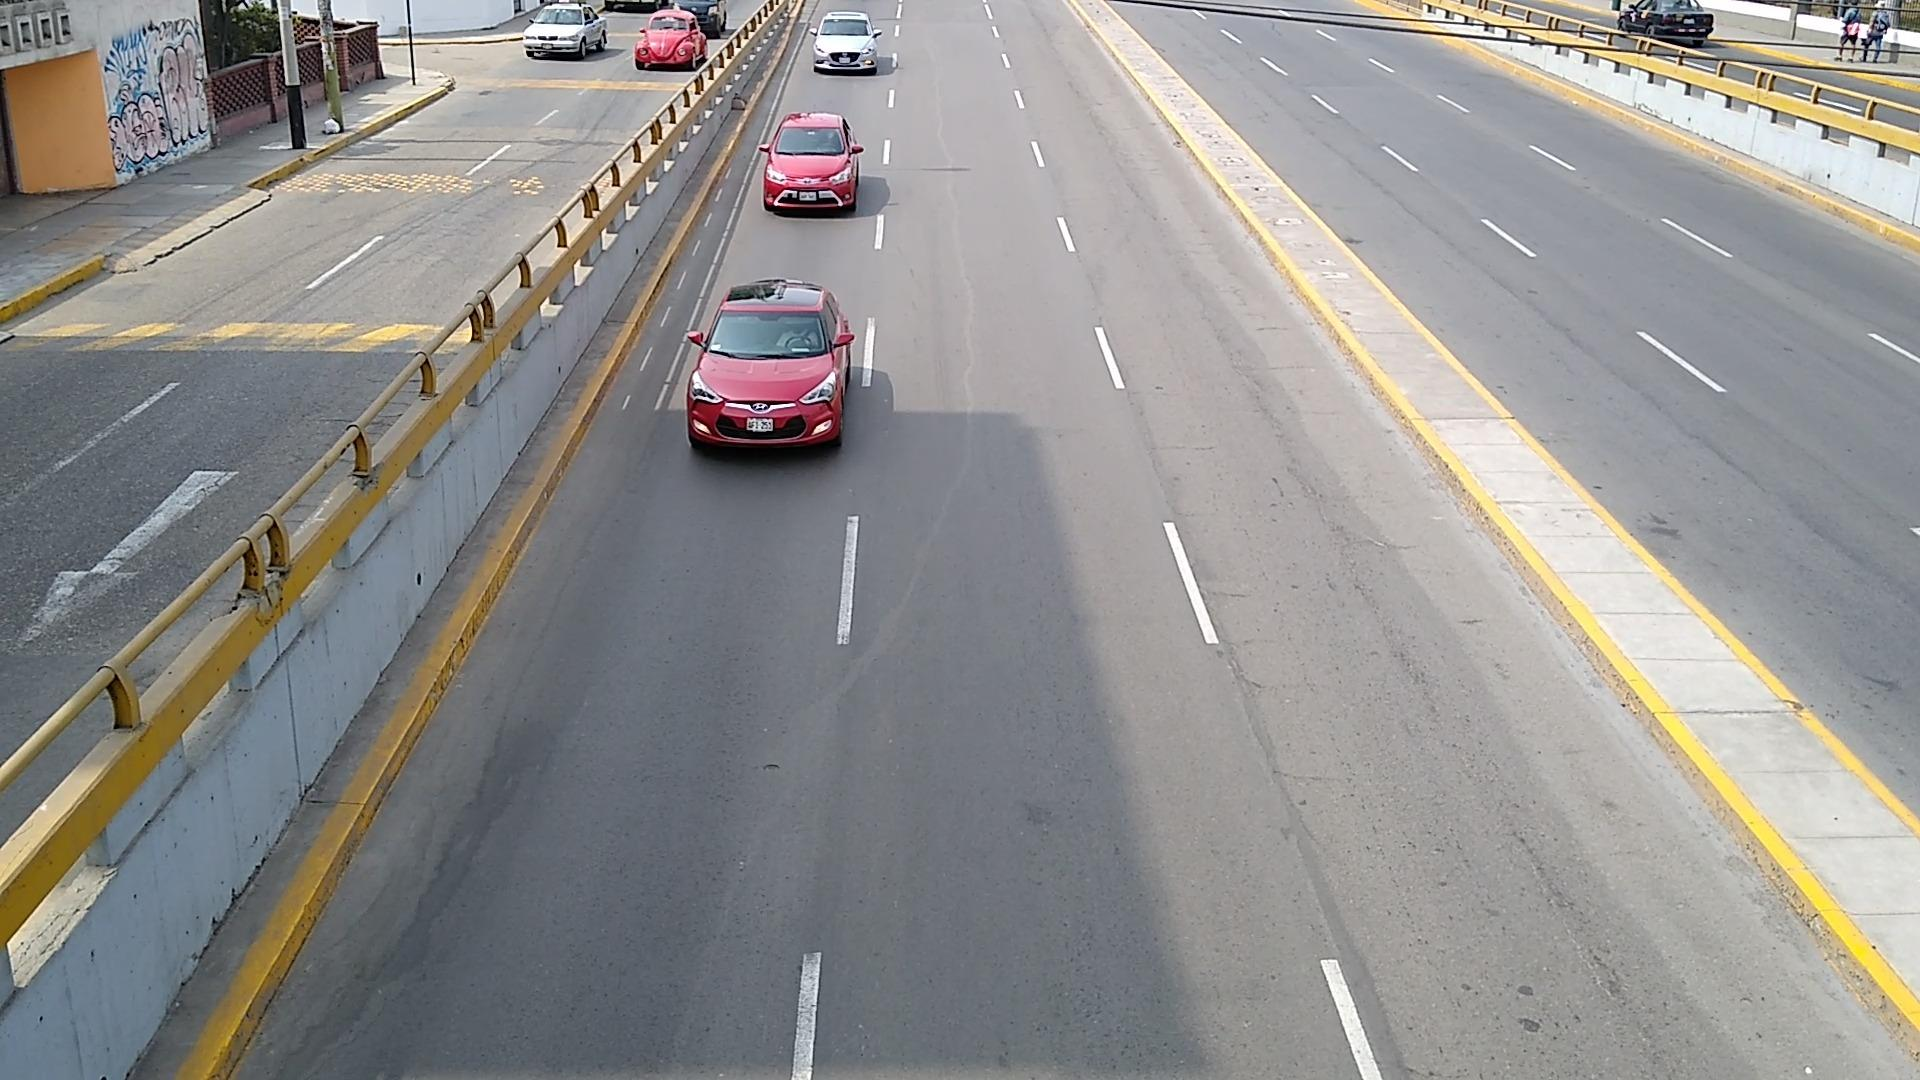car: (686, 277, 855, 450), (757, 112, 862, 208), (525, 4, 608, 57), (634, 8, 708, 67), (814, 12, 881, 71), (671, 0, 728, 37)
